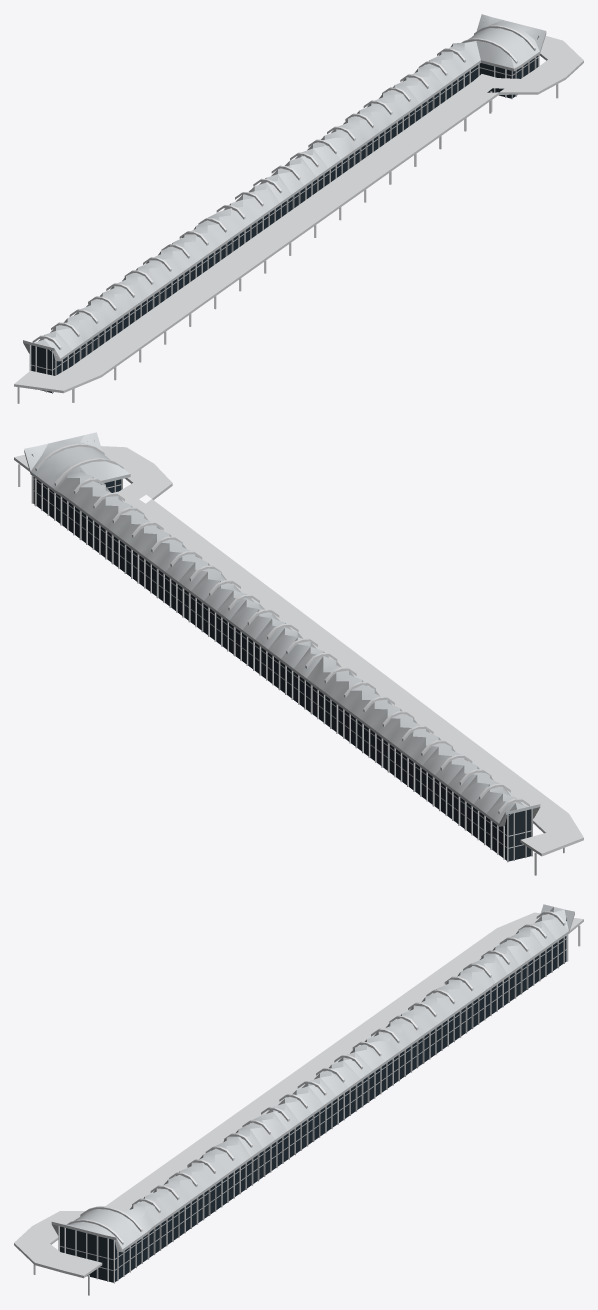
Rendered from OMDB_terminal_3.glb.
The picture shows the model from 3 angles, top to bottom: view 1: azimuth 90°, elevation 25°; view 2: azimuth 150°, elevation 25°; view 3: azimuth 270°, elevation 25°; orthographic projection. The views are drawn at different scales.
Visible parts, largest first — view 1: Terminal3_Structure, Terminal3_Building; view 2: Terminal3_Building, Terminal3_Structure; view 3: Terminal3_Building, Terminal3_Structure.
Part boxes in pixels (box(x1,y1,x2,y2)): Terminal3_Structure: box(14, 20, 583, 403); Terminal3_Building: box(23, 14, 546, 392); Terminal3_Building: box(24, 432, 540, 861); Terminal3_Structure: box(14, 439, 583, 875); Terminal3_Building: box(51, 904, 574, 1282); Terminal3_Structure: box(14, 911, 583, 1295).
Size of what is drawn, in the model's own units: 287 by 18.6 by 190.
